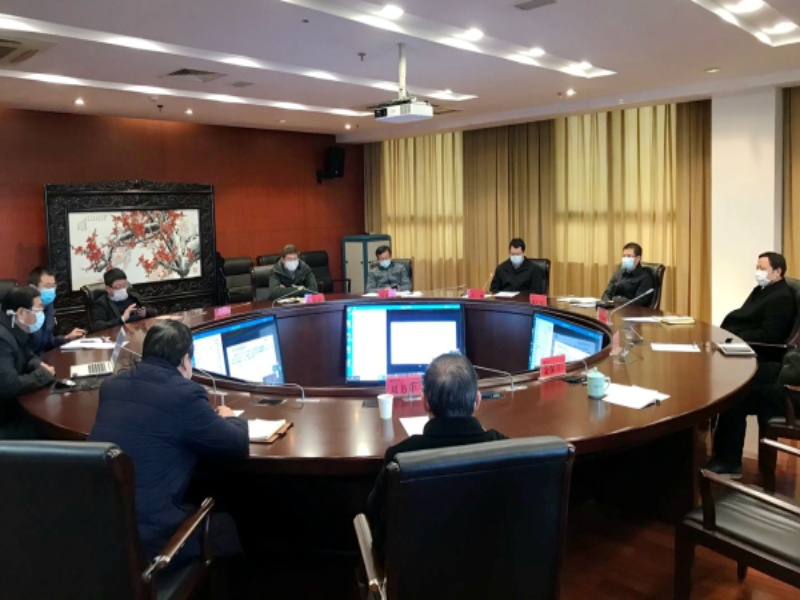ManaoArotava: (24, 262, 67, 312), (100, 263, 135, 306), (500, 228, 533, 272), (612, 238, 648, 276), (751, 245, 779, 293), (272, 239, 305, 272), (372, 243, 402, 279)
